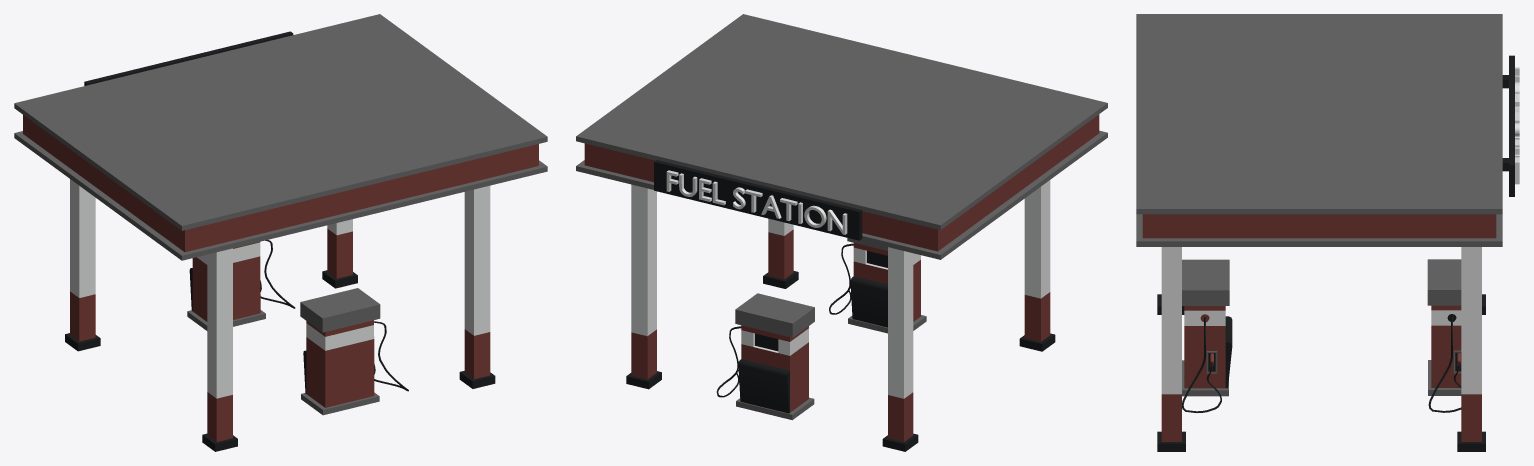
Rendered from fuel.fbx.
3 renders of one model, left to right at view 1: azimuth 30°, elevation 25°; view 2: azimuth 150°, elevation 25°; view 3: azimuth 270°, elevation 25°, orthographic. The views are drawn at different scales.
Visible parts, largest first — view 1: Fuel_Station_1.027; view 2: Fuel_Station_1.027; view 3: Fuel_Station_1.027.
Boxes of the visible parts, x1,y1,x2,y2 form: Fuel_Station_1.027: (14,14,547,451); Fuel_Station_1.027: (576,14,1107,451); Fuel_Station_1.027: (1136,14,1519,451).
Size of the model in its own units: 1324 by 844 by 1100.
